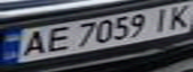0: (93, 17, 118, 45)
5: (112, 13, 136, 42)
7: (72, 20, 96, 48)
9: (127, 11, 154, 38)
A: (15, 28, 51, 58)
E: (39, 25, 75, 54)
I: (148, 6, 175, 33)
K: (163, 2, 193, 29)
